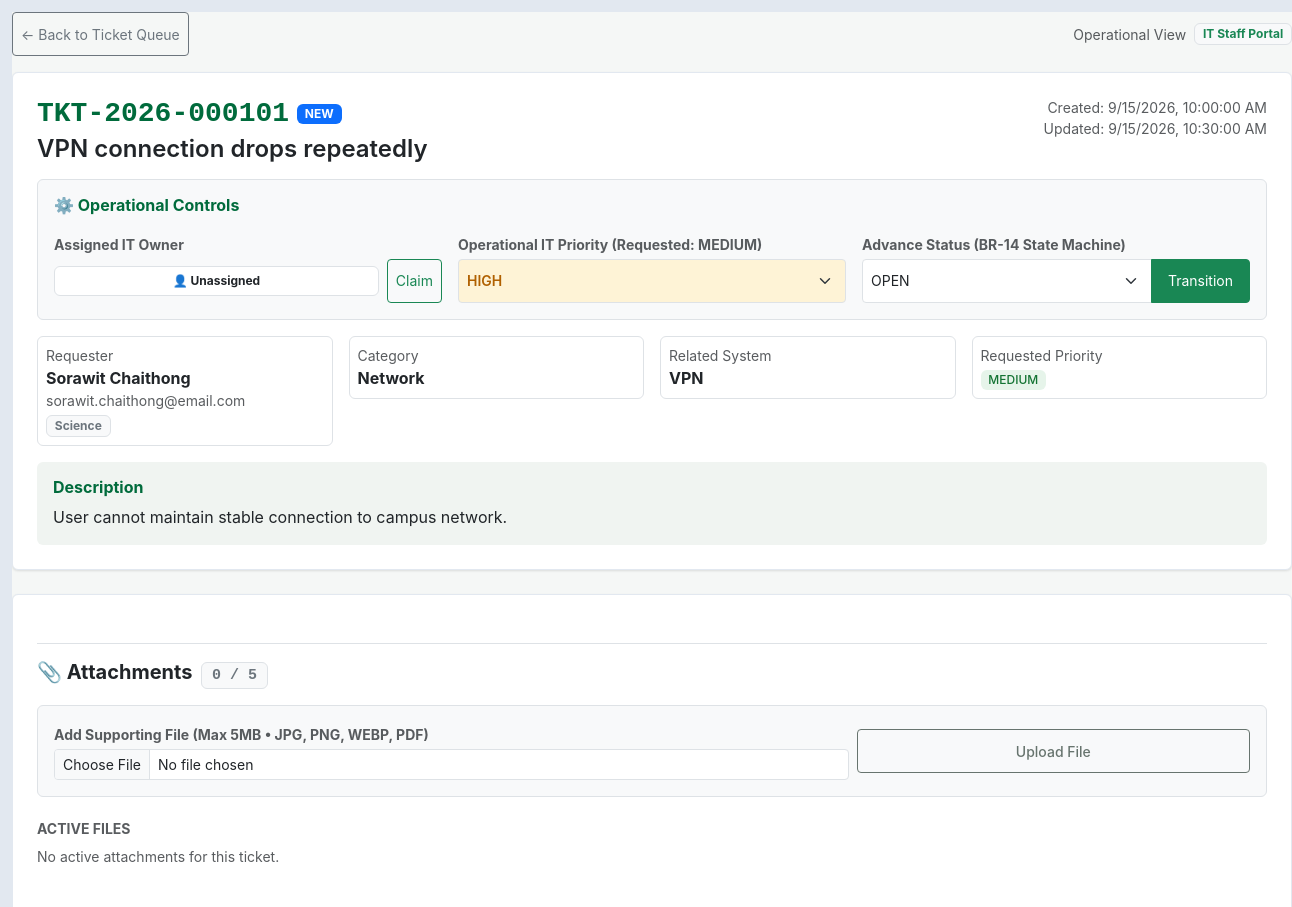
Test: Staff Ticket Detail Component (UI-06 / AC-15..19) › UI-06 / AC-16: claims ownership for active staff member
This screenshot has width=1292, height=907.
Click the button with test id "claim-ownership-btn" at (414, 281), box [387,259,442,303]
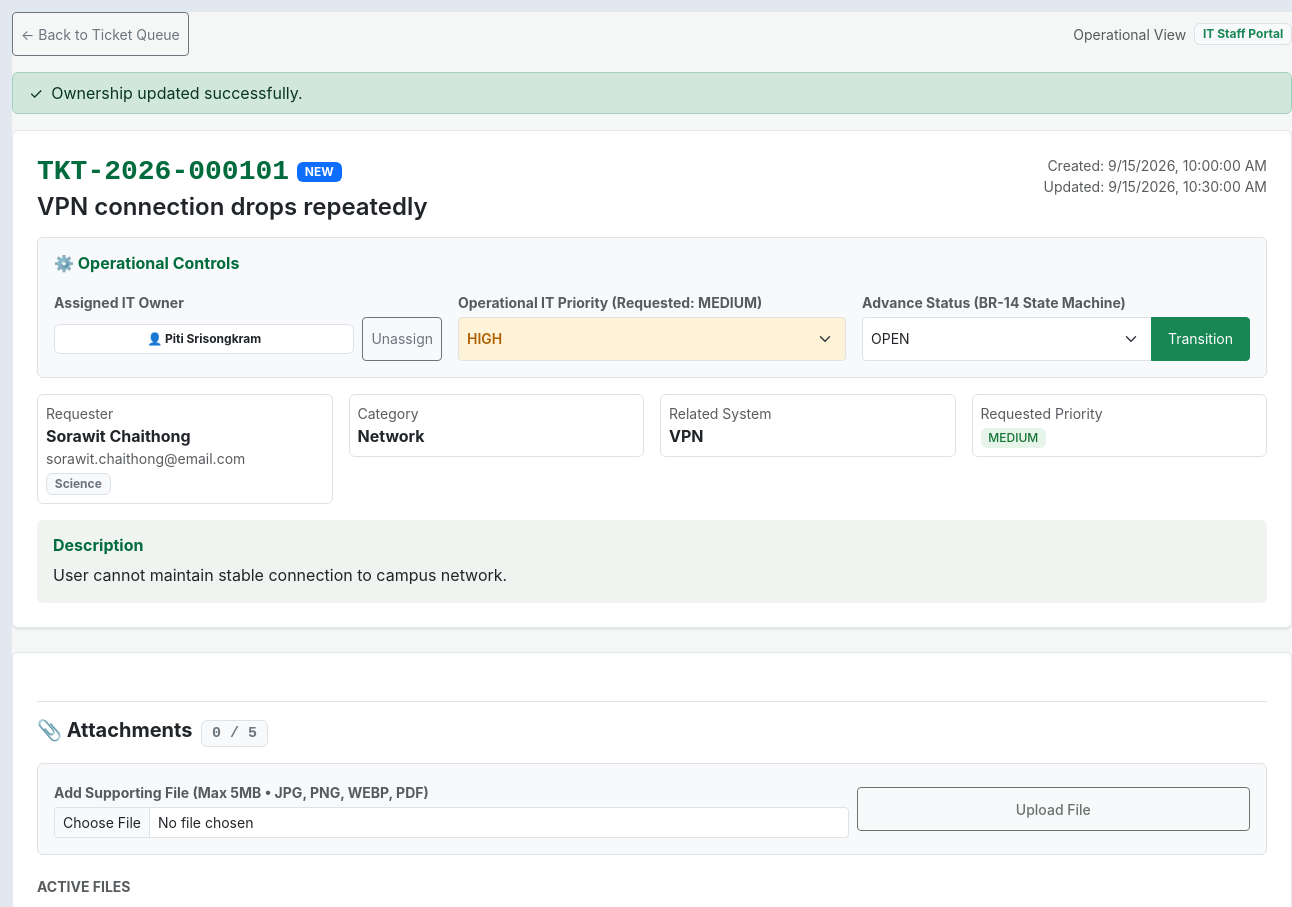
Result: the text with test id "current-assignee-badge" shows "Piti Srisongkram" at [165,331,261,346]
